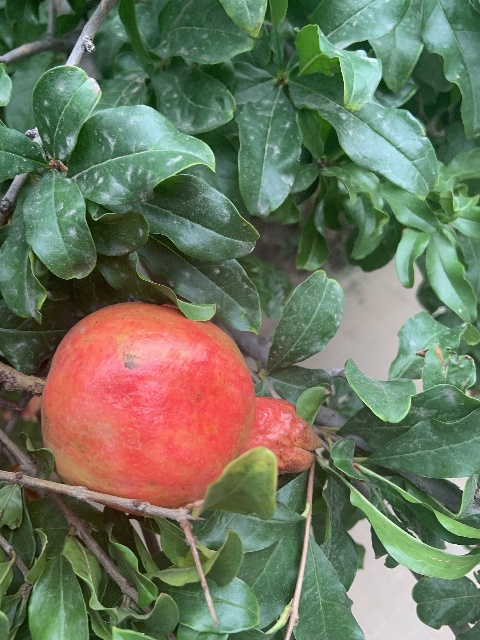ripe: (37, 300, 322, 509)
